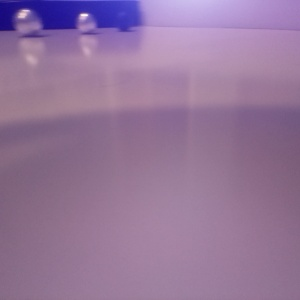dead_ball: (1, 165, 116, 300)
